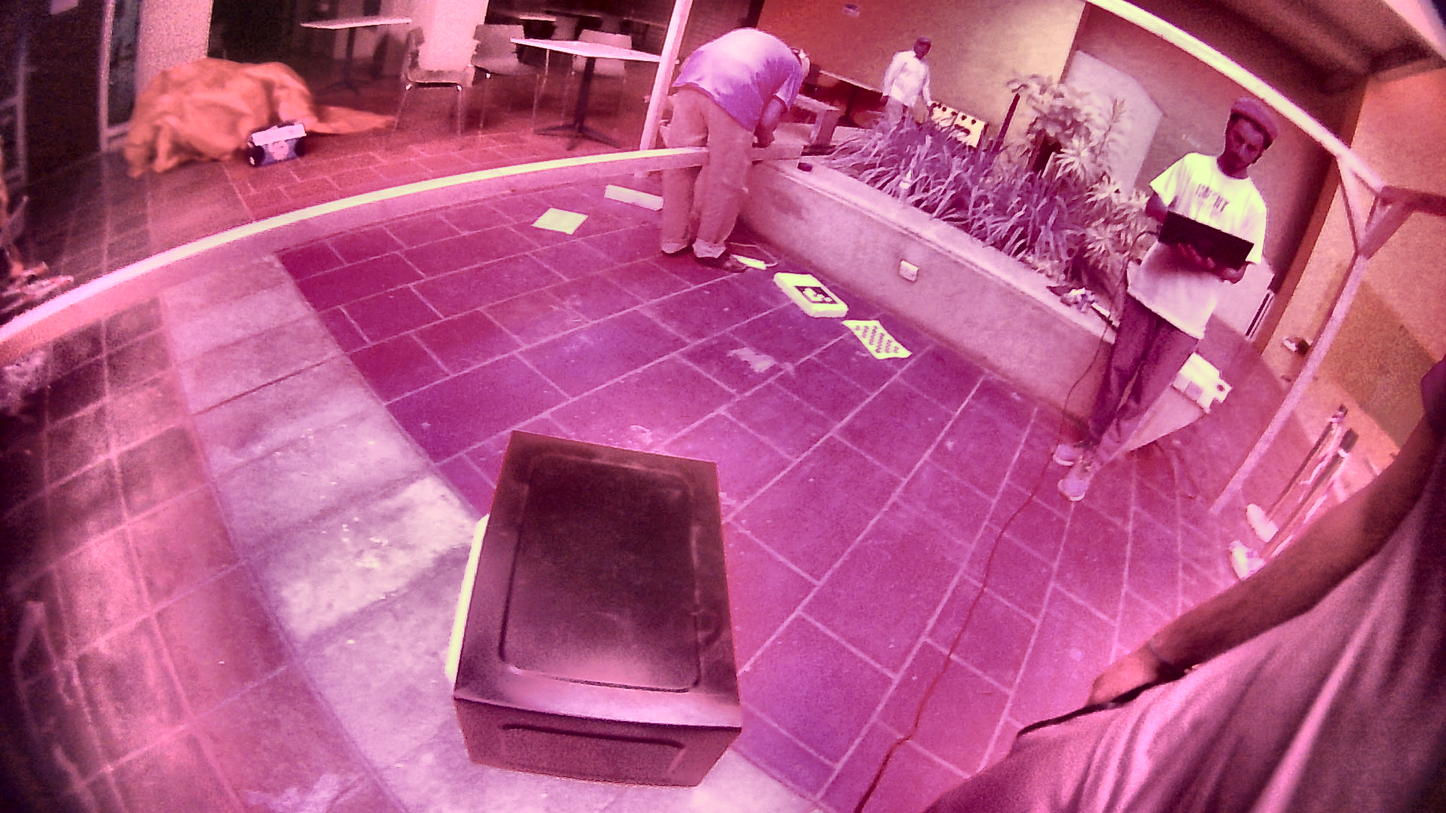MicroWave: (433, 401, 764, 798)
